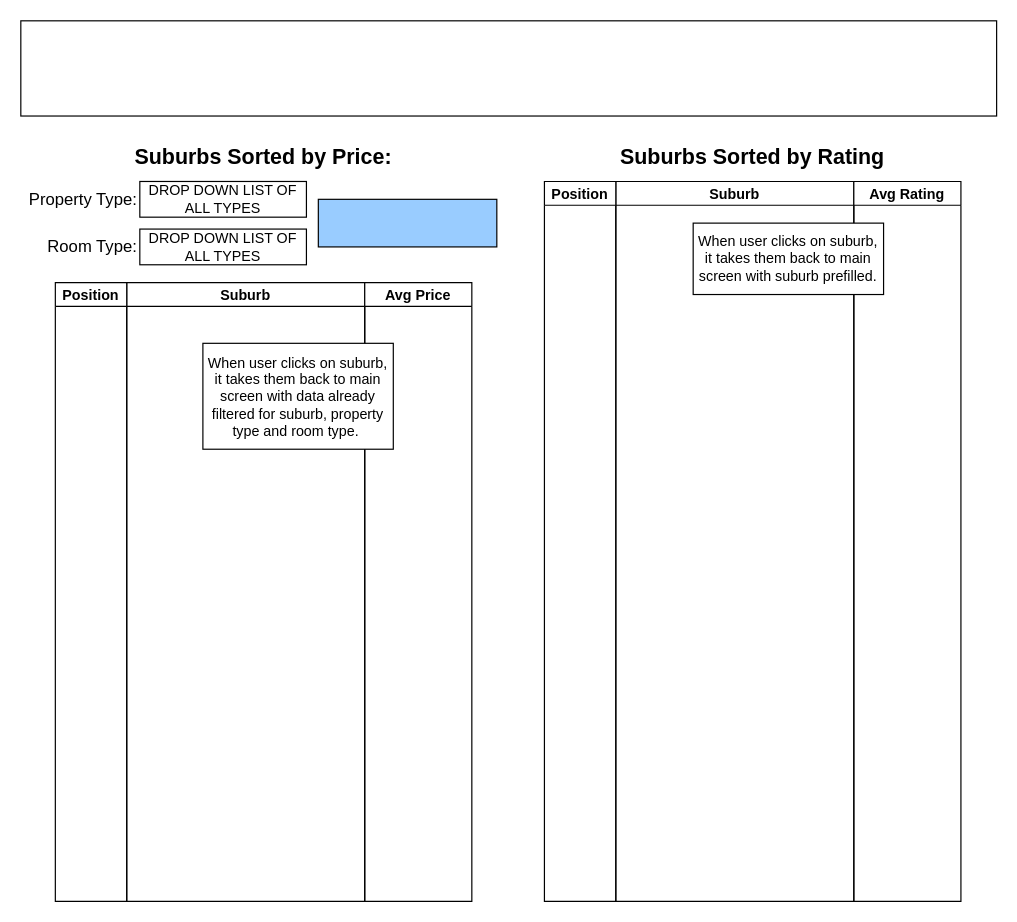
Some shapes in this 1017 by 922 pixel diagram are drawn without their labels. The shapes that lost their labels are listed below. From the top down, each one's centre as x and y in pixels, then its label:
At [508,68]: "Suburb Specific Information".
At [407,222]: "Search".
